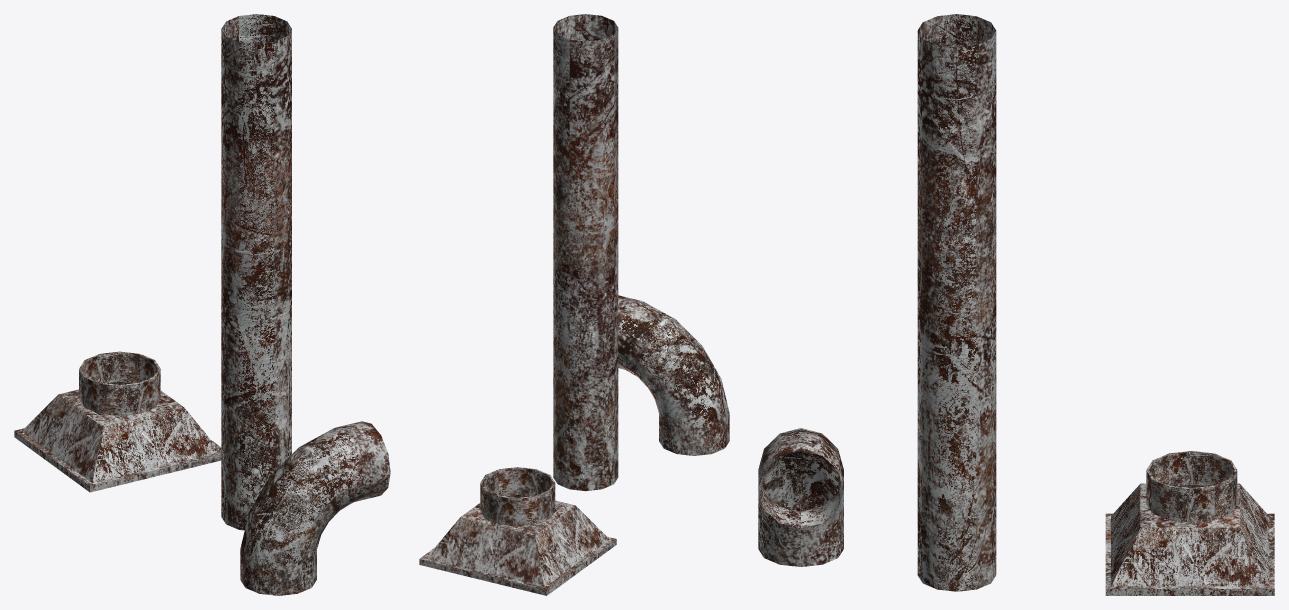
File: Ventilation.FBX
The picture shows the model from 3 angles, left to right: view 1: azimuth 30°, elevation 25°; view 2: azimuth 150°, elevation 25°; view 3: azimuth 270°, elevation 25°; orthographic projection. The views are drawn at different scales.
Visible parts, largest first — view 1: Tube_Ventilation, Diffuzor, Tube_Ventilation_Angle; view 2: Tube_Ventilation, Diffuzor, Tube_Ventilation_Angle; view 3: Tube_Ventilation, Diffuzor, Tube_Ventilation_Angle.
Boxes of the visible parts, bbox=[...] form: Tube_Ventilation: bbox=[221, 14, 291, 530]; Diffuzor: bbox=[14, 351, 221, 492]; Tube_Ventilation_Angle: bbox=[240, 421, 390, 595]; Tube_Ventilation: bbox=[553, 14, 618, 491]; Diffuzor: bbox=[419, 467, 616, 595]; Tube_Ventilation_Angle: bbox=[618, 295, 729, 455]; Tube_Ventilation: bbox=[917, 14, 996, 591]; Diffuzor: bbox=[1105, 451, 1274, 595]; Tube_Ventilation_Angle: bbox=[758, 428, 843, 566].
Size of the model in its own units: 4.33 by 13.97 by 11.97.
